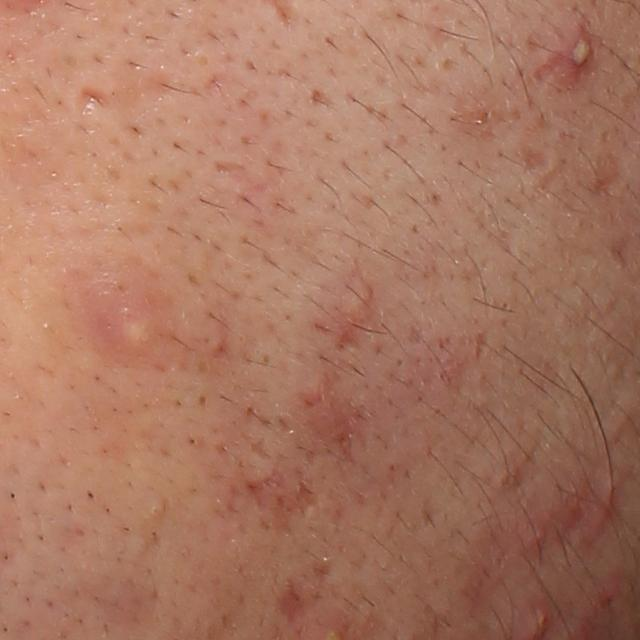atrophic_scar: (528, 50, 583, 97), (583, 151, 628, 203), (273, 570, 305, 626), (534, 160, 570, 199), (516, 139, 551, 175), (73, 88, 112, 119), (247, 435, 272, 461)
comedo: (141, 497, 169, 522)
papule: (589, 493, 618, 545)
pustule: (97, 294, 162, 365), (560, 28, 594, 72)
